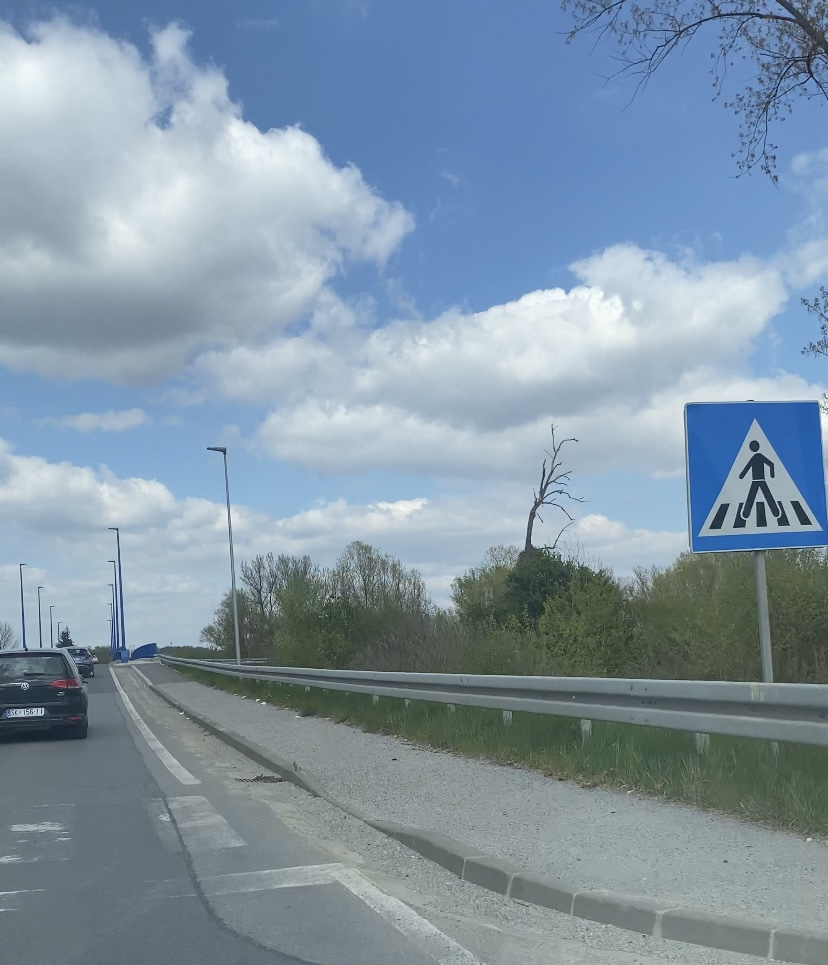Pješački prijelaz: (683, 401, 828, 554)
